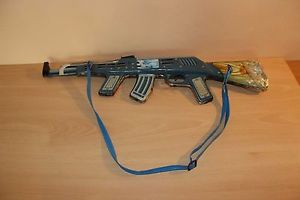ak47: (45, 56, 270, 102)
